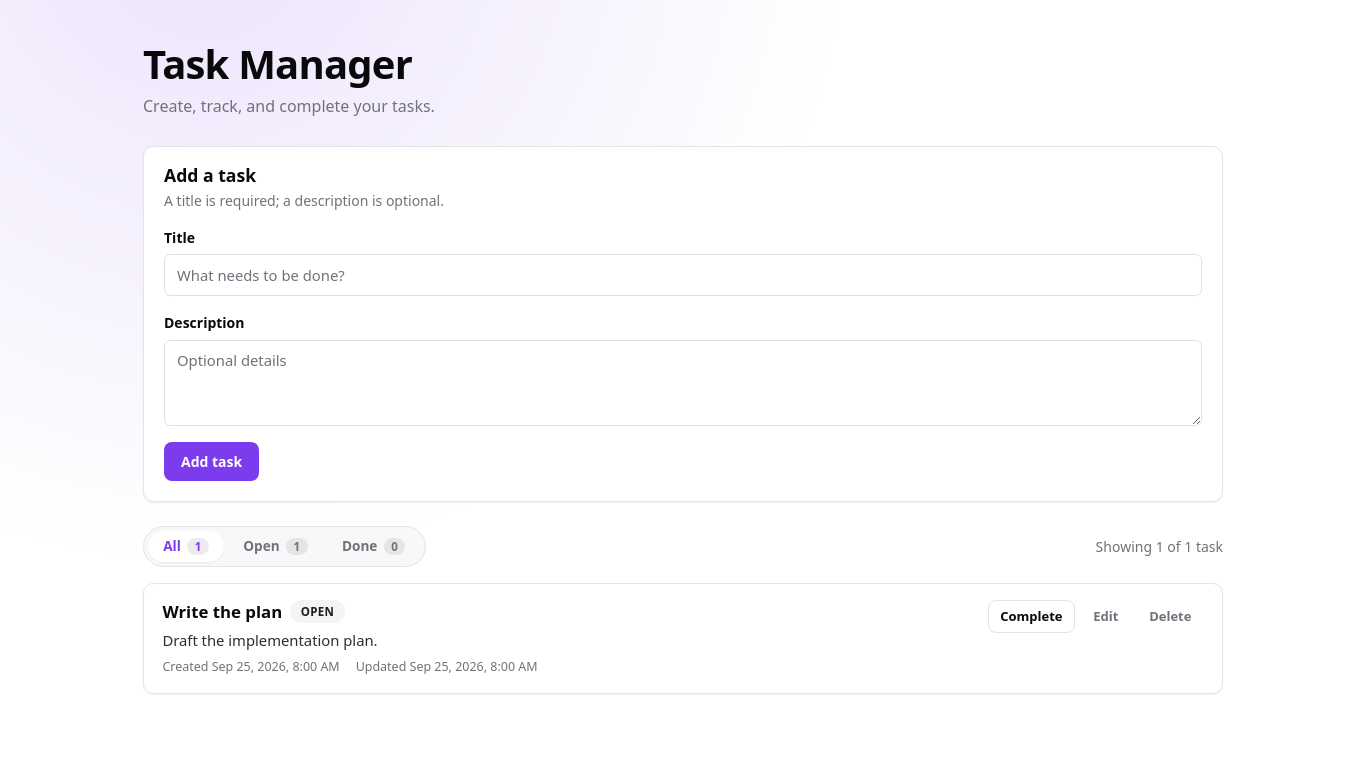
Test: App › shows a filtered empty state that does not imply the tasks were deleted
expect the heading "Write the plan" is shown: met, box [162,602,282,622]
What coordinates should you click on to do the following:
click the button "Done 0"
I would click on:
 (374, 547)
Its box is [327,531,421,562].
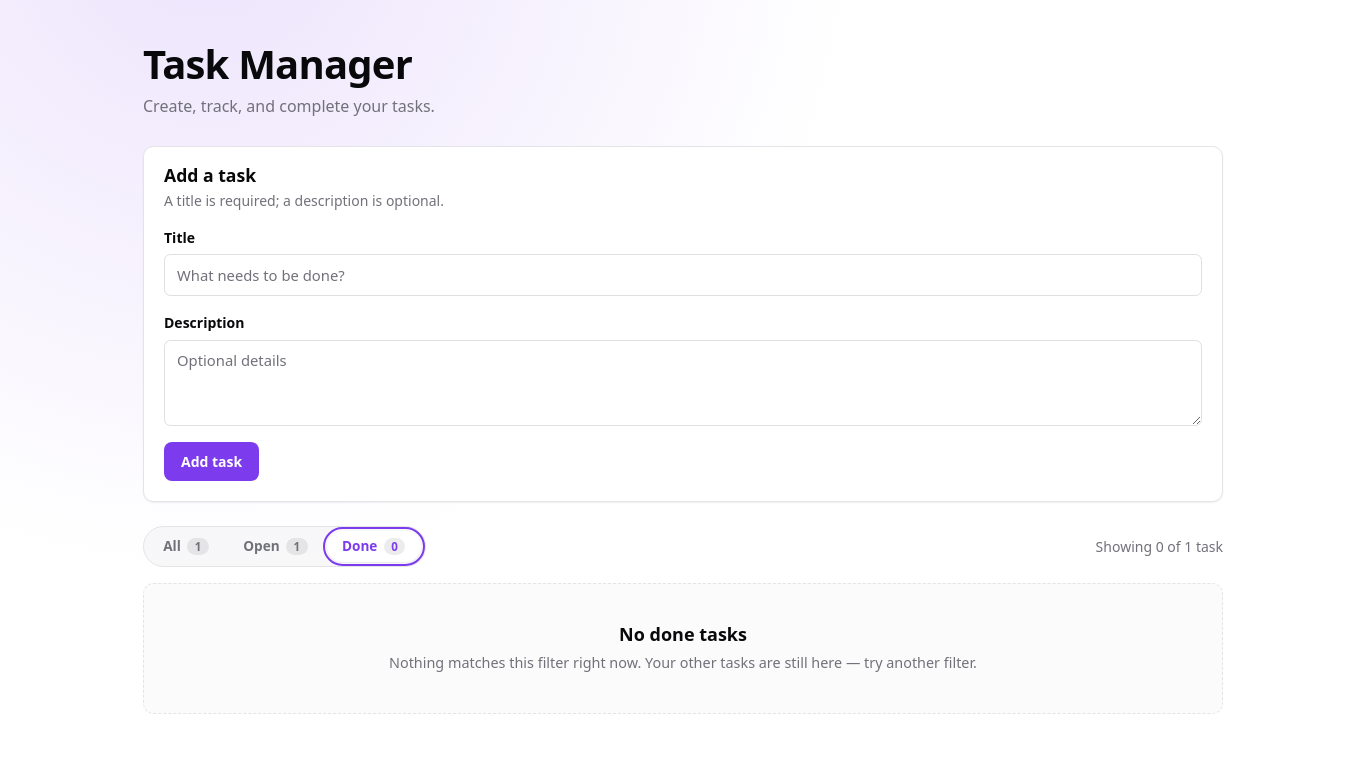
expect the heading "No done tasks" is shown: met, box [619,622,747,646]
What coordinates should you click on to do the following:
click the button "Open 1"
I would click on:
 (275, 547)
Its box is [228,531,323,562].
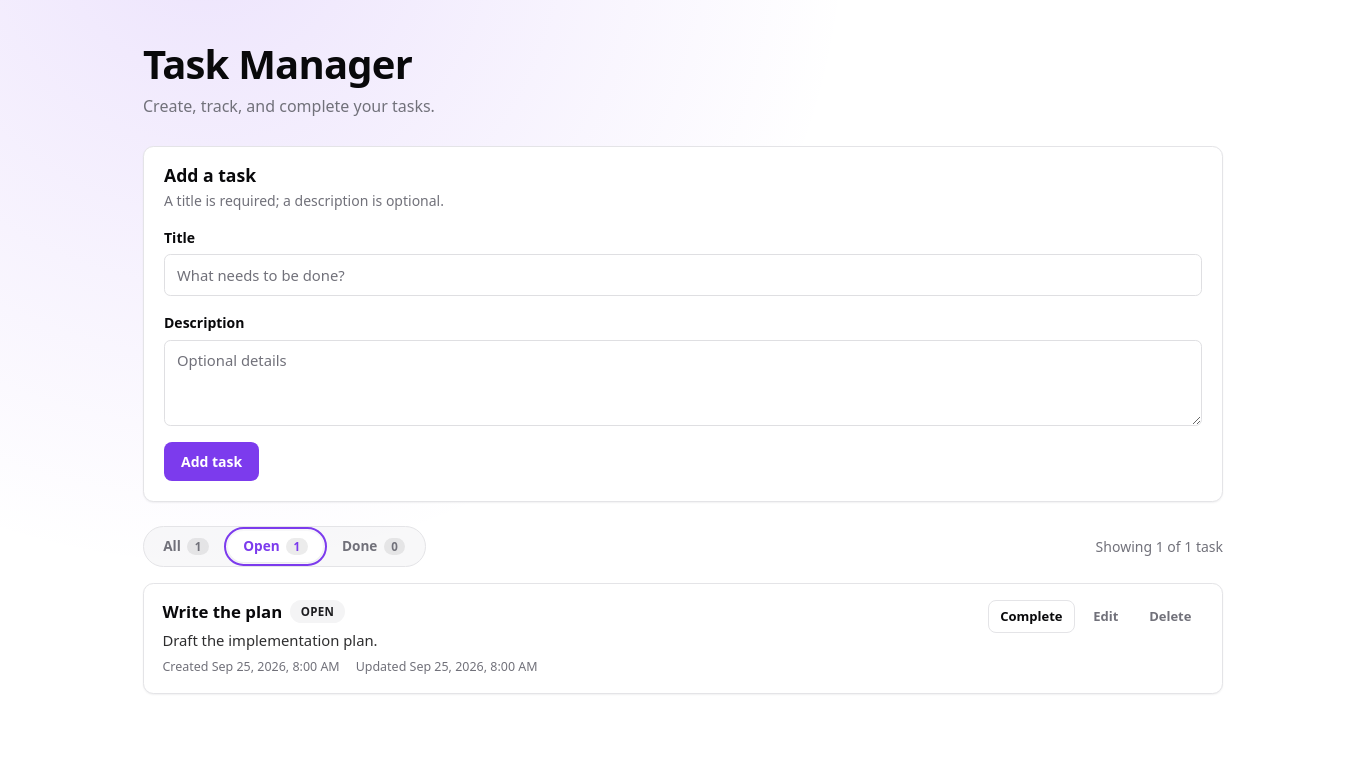
expect the heading "Write the plan" is shown: met, box [162,602,282,622]
